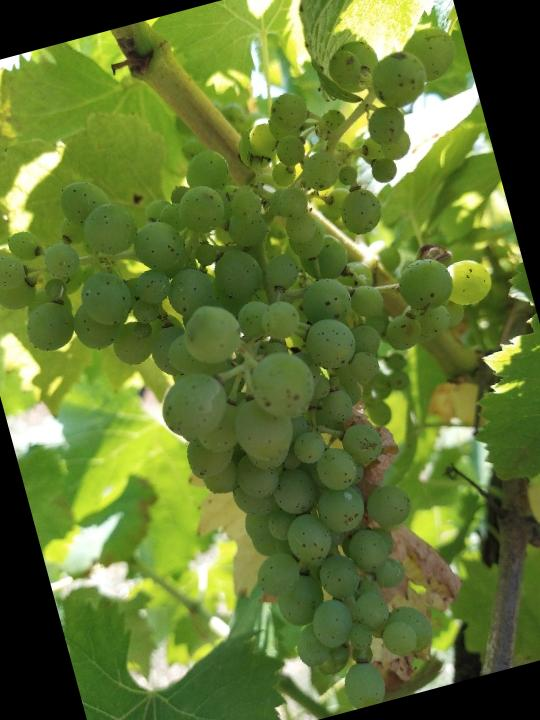grape: (0, 18, 540, 720)
